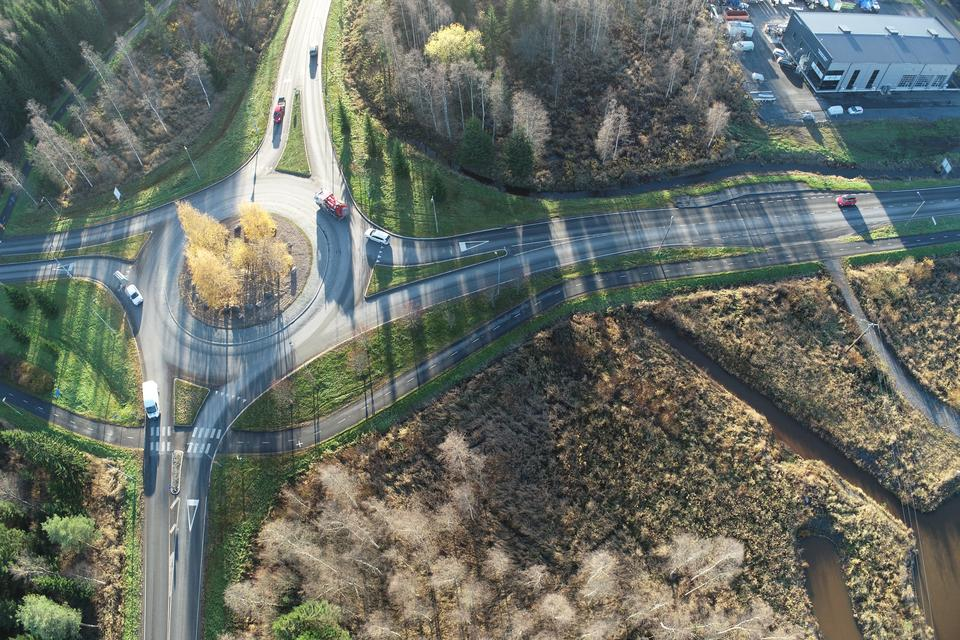intersection: (775, 165, 879, 298), (118, 409, 245, 467)
roundabout: (90, 130, 422, 401)
